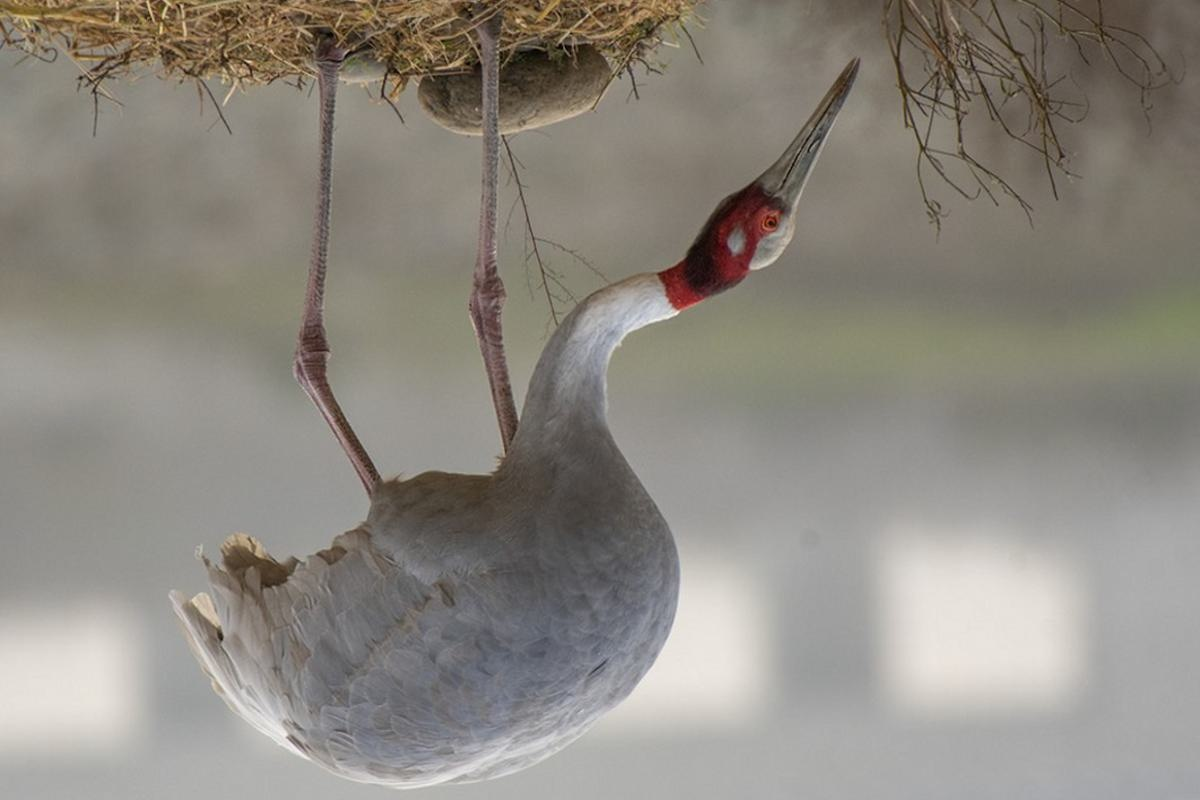crane: (166, 22, 897, 800)
